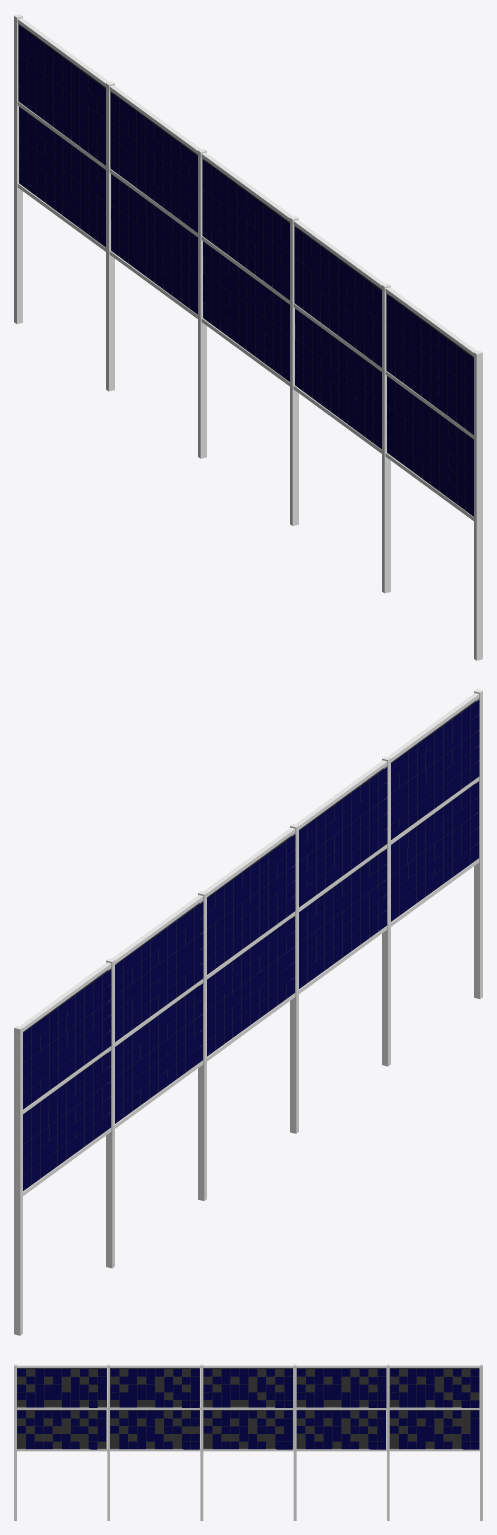
Rendered from w-sun-panel3.glb.
3 renders of one model, top to bottom at view 1: azimuth 30°, elevation 25°; view 2: azimuth 150°, elevation 25°; view 3: azimuth 270°, elevation 25°, orthographic. The views are drawn at different scales.
Visible parts, largest first — view 1: 立方体.005, 立方体.004, 立方体.002, 立方体.003, 立方体.001; view 2: 立方体.004, 立方体.005, 立方体.002, 立方体.001, 立方体.003; view 3: 立方体.004, 立方体.001, 立方体.002, 立方体.005, 立方体.003.
Boxes of the visible parts, <box> form: 立方体.005: <box>382,283,482,660</box>; 立方体.004: <box>14,14,109,390</box>; 立方体.002: <box>106,81,201,458</box>; 立方体.003: <box>290,216,389,592</box>; 立方体.001: <box>198,149,298,525</box>; 立方体.004: <box>14,960,114,1335</box>; 立方体.005: <box>382,689,482,1065</box>; 立方体.002: <box>106,893,206,1267</box>; 立方体.001: <box>198,825,298,1200</box>; 立方体.003: <box>290,758,390,1066</box>; 立方体.004: <box>387,1364,482,1520</box>; 立方体.001: <box>200,1364,296,1520</box>; 立方体.002: <box>293,1364,389,1520</box>; 立方体.005: <box>14,1364,109,1520</box>; 立方体.003: <box>107,1364,203,1520</box>.
Bounding box in the file's own units: 0.2 × 9.38 × 25.66.
